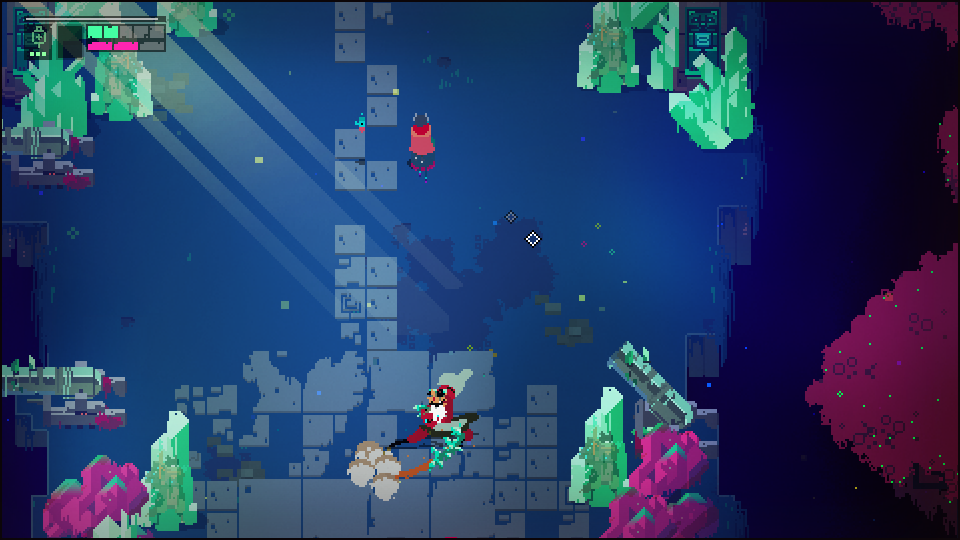hanged_man: (381, 367, 484, 477)
player: (405, 105, 438, 183)
